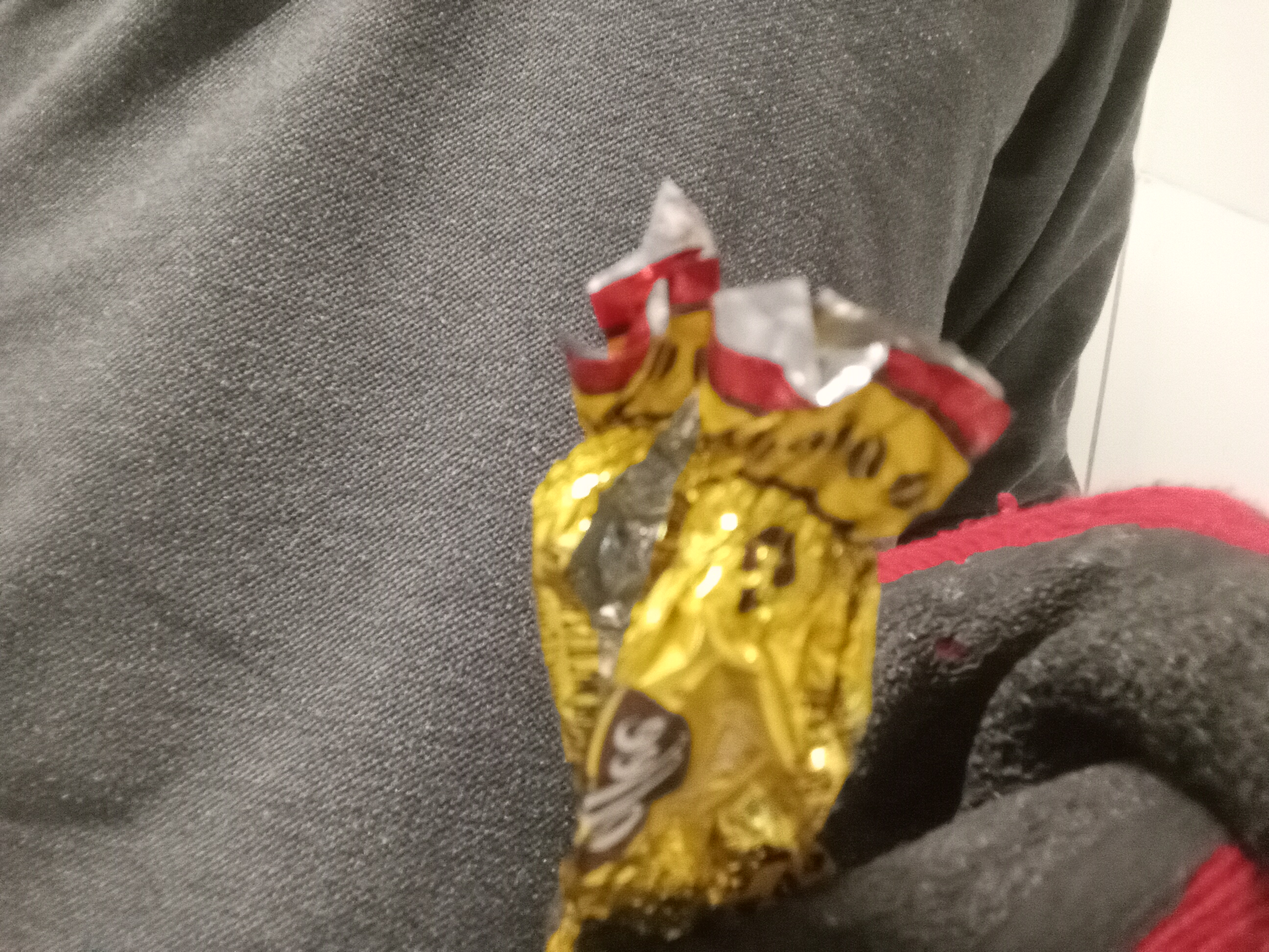Ordinario: (531, 174, 1017, 952)
